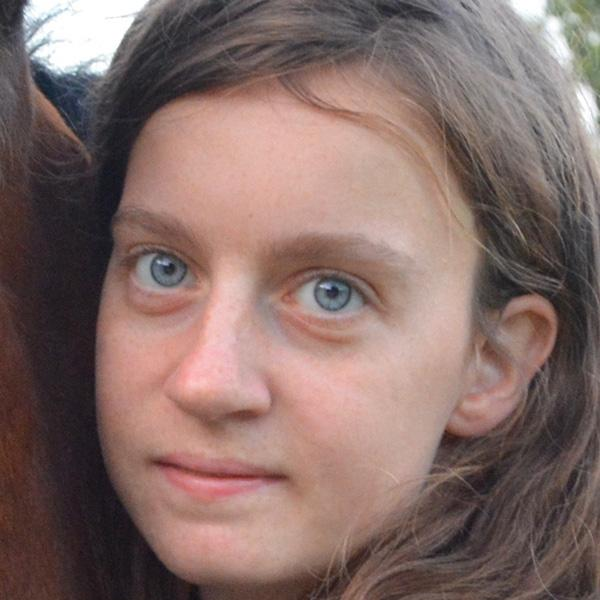Eyes: (273, 264, 386, 337), (113, 234, 209, 311)
